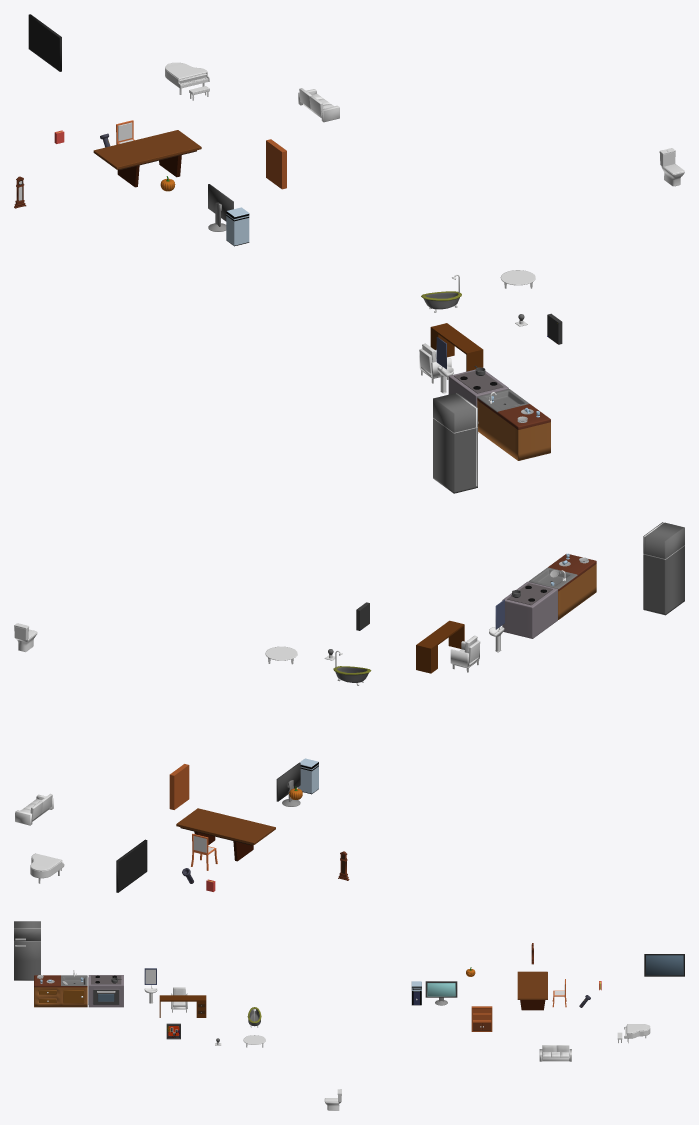
The model's file is Privada.fbx.
The picture shows the model from 3 angles, top to bottom: view 1: azimuth 30°, elevation 25°; view 2: azimuth 150°, elevation 25°; view 3: azimuth 270°, elevation 25°; orthographic projection. The views are drawn at different scales.
Parts seen in each view (by area): view 1: Cube.056, Cube.060, Cube.007, Cube.005, Cube.037, Cube.006, Cube.004, Cube.008; view 2: Cube.056, Cube.060, Cube.049, Cube.007, Cube.037, Cube.005, Cube.006, Cube.004; view 3: Cube.060, Cube.056, Cube.005, Cube.049, Cube.007, Cube.006, Cube.003, Cube.037.
Boxes of the visible parts, <box> form: Cube.056: <box>433,392,477,493</box>; Cube.060: <box>477,389,550,460</box>; Cube.007: <box>93,130,201,169</box>; Cube.005: <box>28,14,61,71</box>; Cube.037: <box>430,323,483,371</box>; Cube.006: <box>266,139,286,189</box>; Cube.004: <box>226,207,249,246</box>; Cube.008: <box>117,150,196,187</box>; Cube.056: <box>643,522,684,615</box>; Cube.060: <box>528,554,596,619</box>; Cube.049: <box>502,581,557,638</box>; Cube.007: <box>176,808,275,844</box>; Cube.037: <box>416,620,464,673</box>; Cube.005: <box>116,839,147,892</box>; Cube.006: <box>169,764,189,809</box>; Cube.004: <box>298,758,318,794</box>; Cube.060: <box>34,975,87,1007</box>; Cube.056: <box>14,921,40,980</box>; Cube.005: <box>644,954,684,976</box>; Cube.049: <box>88,975,123,1007</box>; Cube.007: <box>517,971,547,999</box>; Cube.006: <box>471,1006,492,1031</box>; Cube.003: <box>425,981,457,997</box>; Cube.037: <box>159,995,206,1017</box>.
Size of the model in its own units: 29019 by 4749 by 51195.
